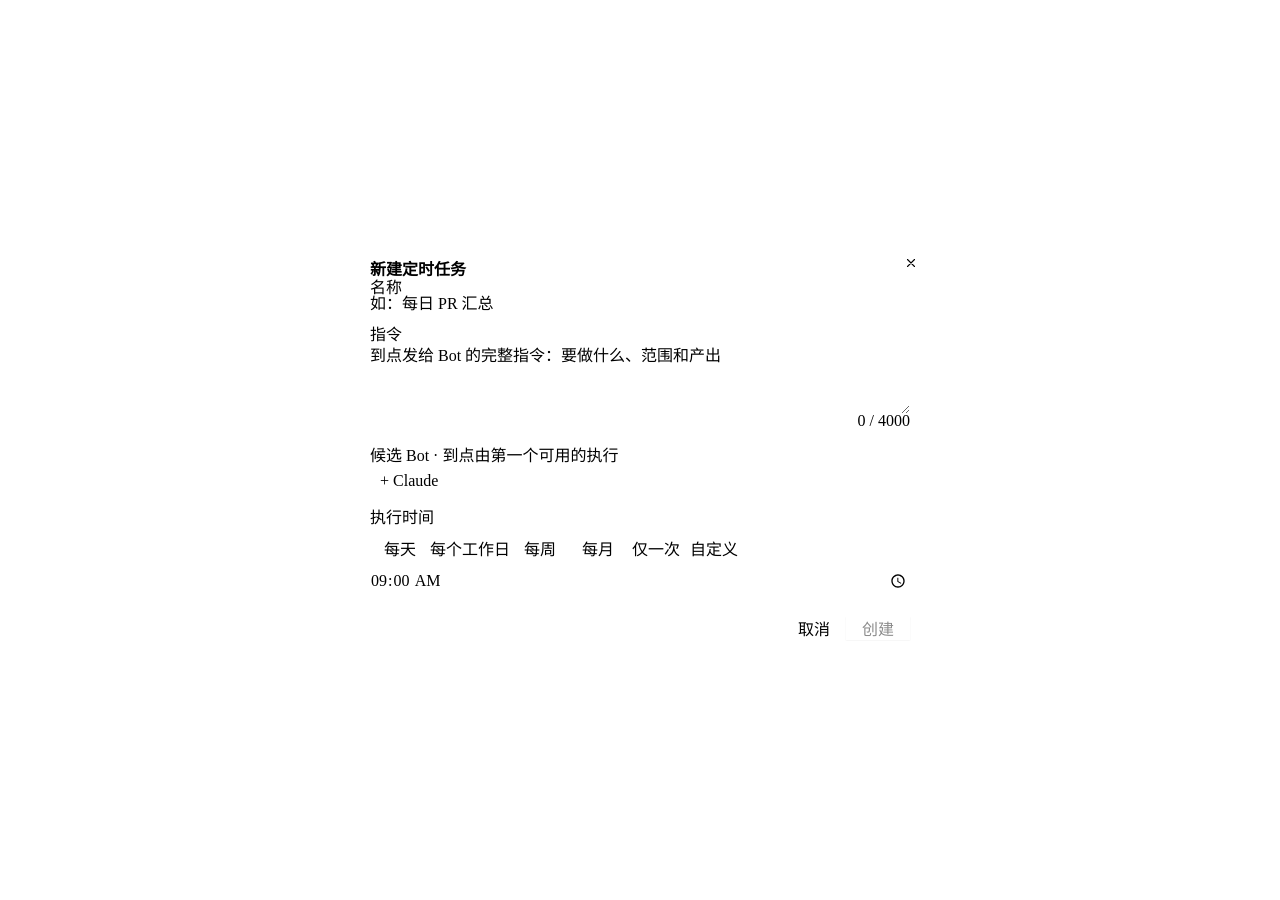
it: schedule editor › shows why a custom expression is refused
The width and height of the screenshot is (1280, 900).
Click the radio button labelled "自定义": (714, 548) [686,536,742,560]
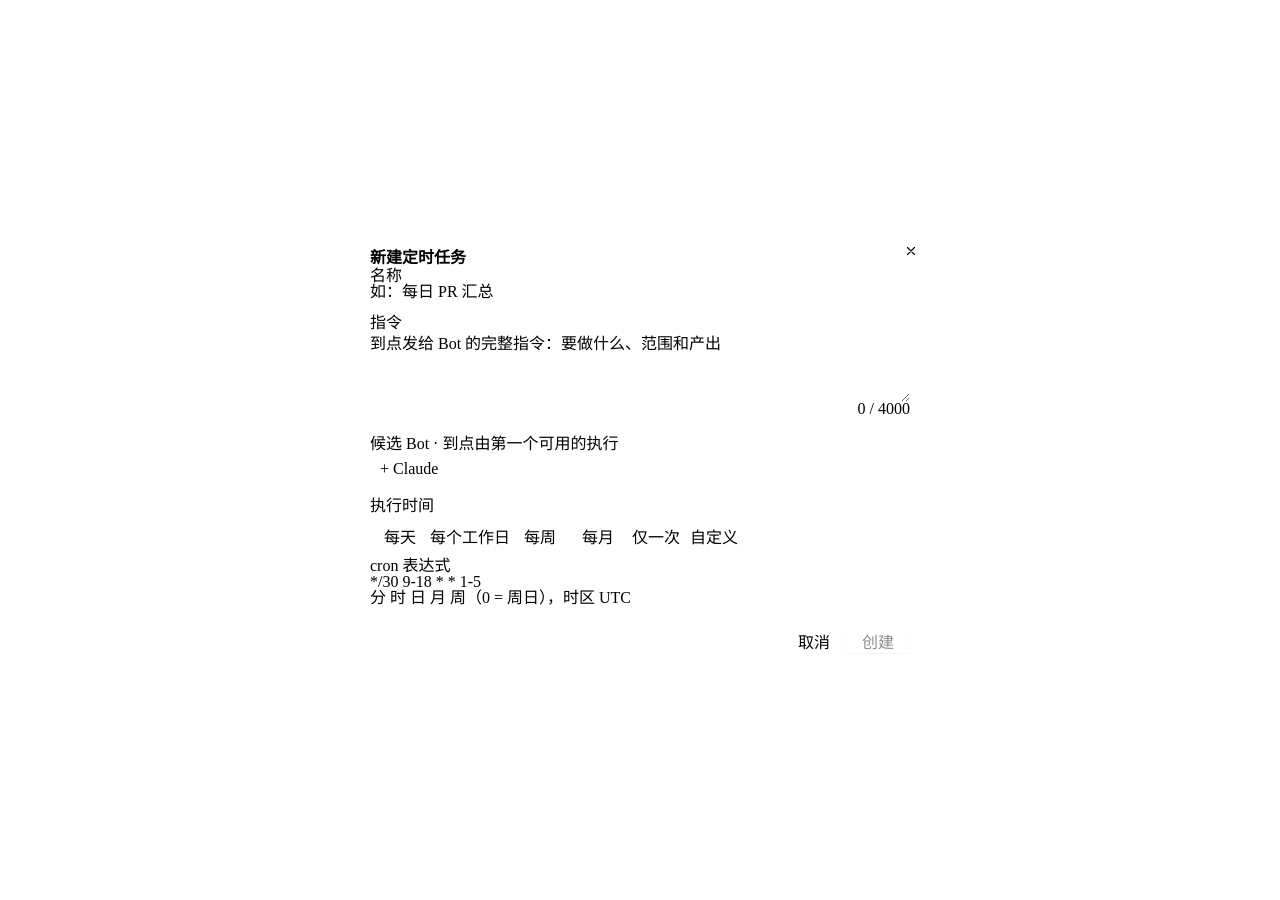
In the field labelled "cron 表达式": (640, 582) [370,572,910,590], type "* * * * *"
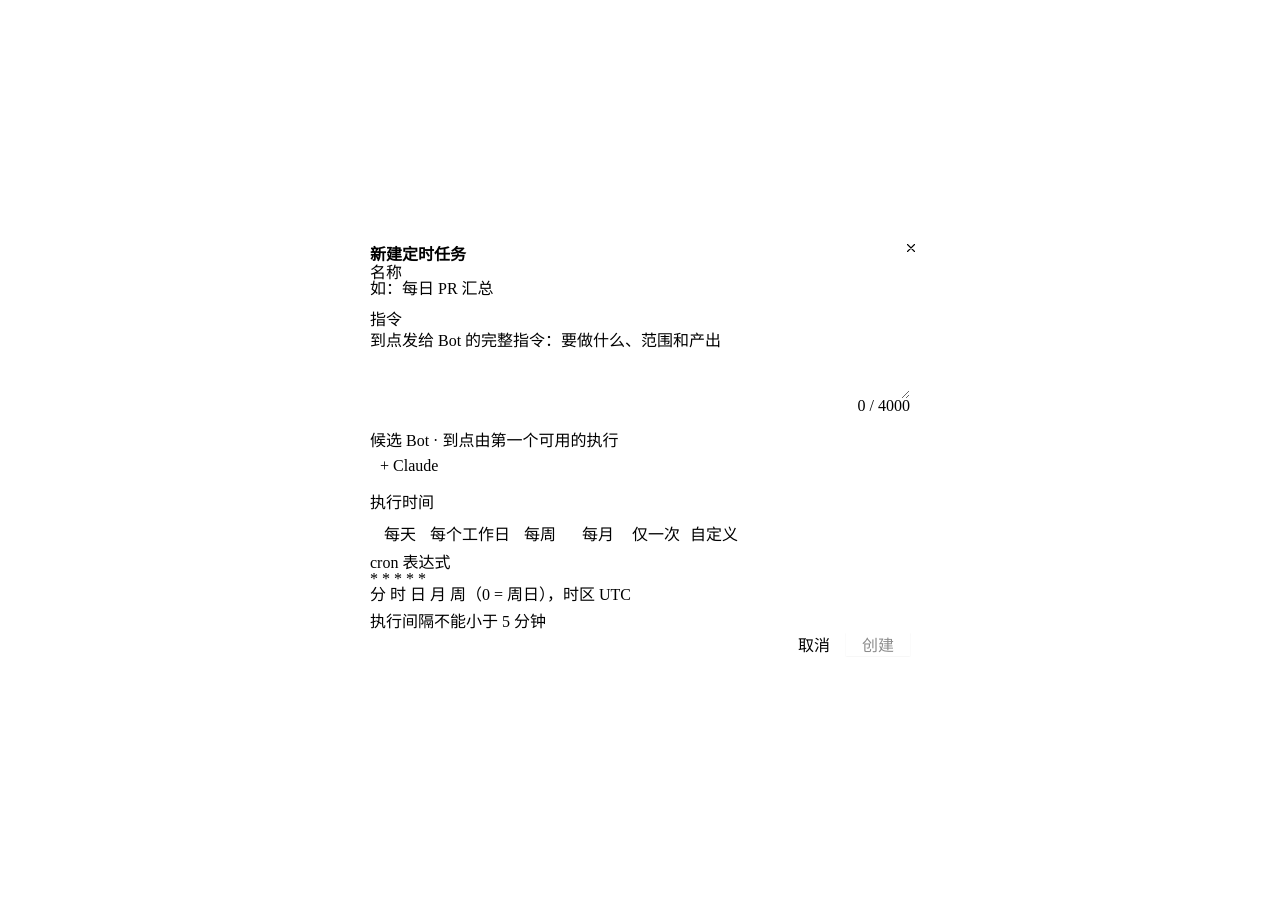
Check: the button "创建" is disabled, box [846,632,910,656]
Check: the text "执行间隔不能小于 5 分钟" is shown, box [370,612,546,630]
